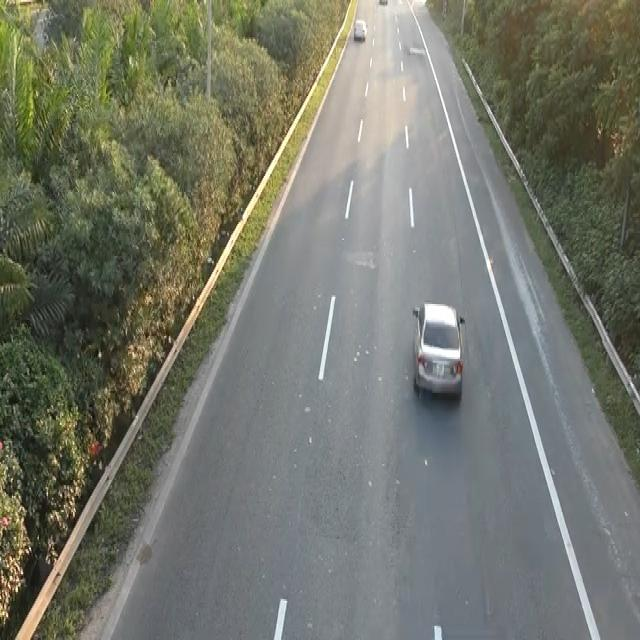bus: (410, 297, 466, 402)
